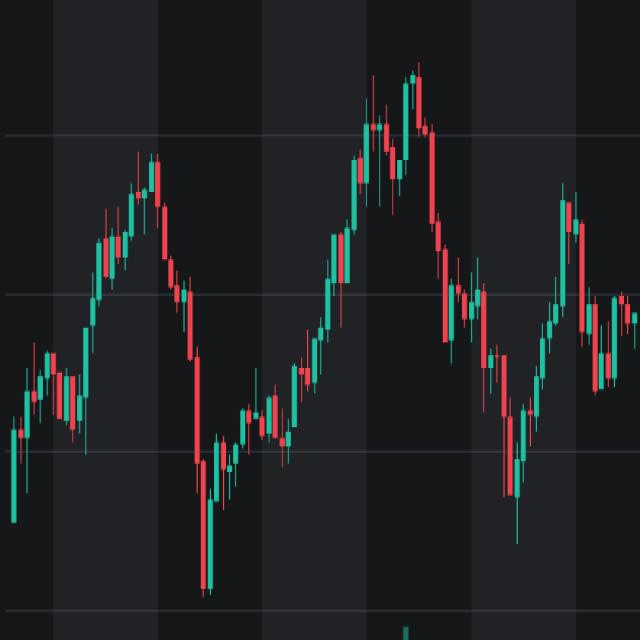Resistance-Emerging: (84, 62, 639, 489)
